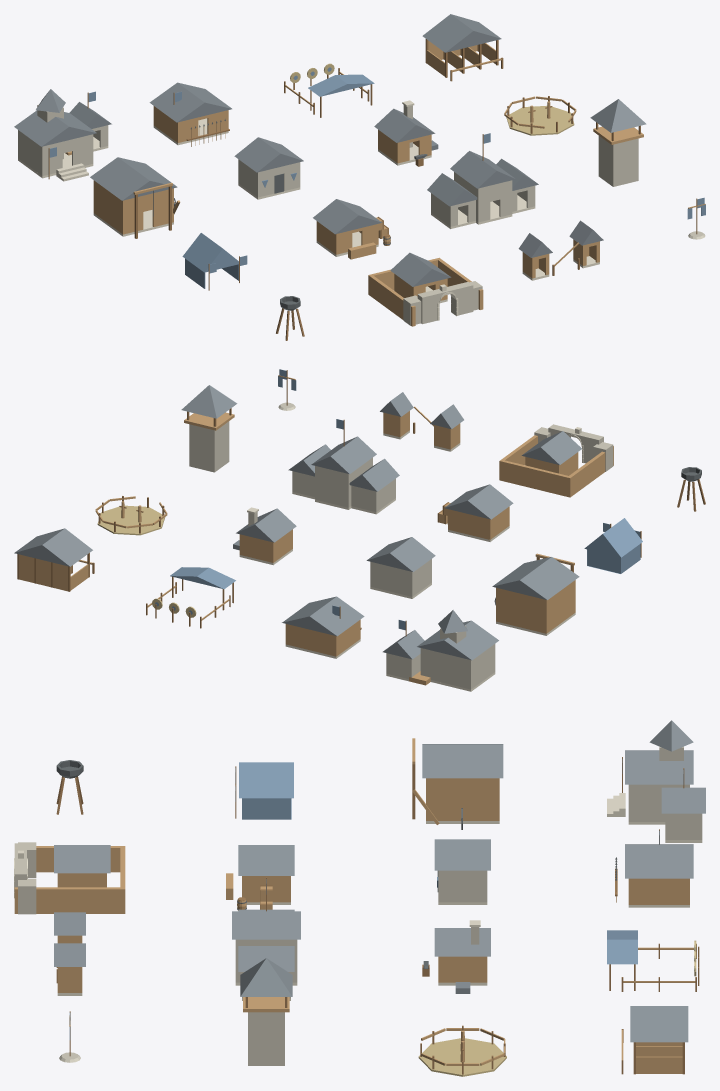
Rendered from kingdom-military-camp.glb.
The picture shows the model from 3 angles, top to bottom: view 1: azimuth 30°, elevation 25°; view 2: azimuth 150°, elevation 25°; view 3: azimuth 270°, elevation 25°; orthographic projection. The views are drawn at different scales.
Visible parts, largest first — view 1: 010-war-academy/3, 000-town-hall-upgraded/3, 004-siege-workshop/1, 010-war-academy/1, 000-town-hall-upgraded/1, 013-outpost/1, 004-siege-workshop/3, 013-outpost/4, 001-militia-barracks/3, 008-command-tent/0, 003-cavalry-stables/2, 011-arrow-tower/0 (+18 smaller); view 2: 013-outpost/1, 000-town-hall-upgraded/1, 010-war-academy/1, 004-siege-workshop/1, 010-war-academy/3, 000-town-hall-upgraded/3, 008-command-tent/0, 004-siege-workshop/3, 001-militia-barracks/3, 003-cavalry-stables/2, 011-arrow-tower/0, 001-militia-barracks/1 (+15 smaller); view 3: 013-outpost/1, 000-town-hall-upgraded/3, 004-siege-workshop/1, 010-war-academy/3, 008-command-tent/0, 004-siege-workshop/3, 000-town-hall-upgraded/1, 001-militia-barracks/3, 007-training-arena/0, 003-cavalry-stables/2, 011-arrow-tower/0, 005-armoury/3 (+17 smaller).
Part boxes in pixels (box(x1,y1,x2,y2)): 010-war-academy/3: box(427, 151, 538, 206); 000-town-hall-upgraded/3: box(14, 89, 111, 146); 004-siege-workshop/1: box(93, 180, 180, 234); 010-war-academy/1: box(431, 172, 535, 226); 000-town-hall-upgraded/1: box(18, 104, 108, 175); 013-outpost/1: box(368, 257, 483, 326); 004-siege-workshop/3: box(90, 157, 177, 200); 013-outpost/4: box(403, 281, 482, 325); 001-militia-barracks/3: box(149, 82, 231, 122); 008-command-tent/0: box(182, 233, 247, 288); 003-cavalry-stables/2: box(422, 14, 501, 52); 011-arrow-tower/0: box(598, 136, 638, 186); 013-outpost/1: box(499, 435, 613, 497); 000-town-hall-upgraded/1: box(386, 625, 495, 689); 010-war-academy/1: box(292, 457, 395, 512); 004-siege-workshop/1: box(495, 553, 575, 633); 010-war-academy/3: box(288, 436, 399, 491); 000-town-hall-upgraded/3: box(383, 610, 498, 660); 008-command-tent/0: box(584, 518, 642, 573); 004-siege-workshop/3: box(492, 557, 579, 599); 001-militia-barracks/3: box(282, 596, 364, 636); 003-cavalry-stables/2: box(14, 528, 92, 566); 011-arrow-tower/0: box(189, 421, 229, 472); 001-militia-barracks/1: box(285, 619, 360, 656); 013-outpost/1: box(14, 846, 125, 913); 000-town-hall-upgraded/3: box(625, 720, 705, 813); 004-siege-workshop/1: box(412, 738, 499, 824); 010-war-academy/3: box(232, 909, 300, 971); 008-command-tent/0: box(235, 762, 293, 819); 004-siege-workshop/3: box(422, 744, 503, 778); 000-town-hall-upgraded/1: box(628, 746, 702, 839); 001-militia-barracks/3: box(625, 844, 693, 878); 007-training-arena/0: box(418, 1038, 506, 1076); 003-cavalry-stables/2: box(630, 1006, 688, 1042); 011-arrow-tower/0: box(248, 1012, 284, 1065); 005-armoury/3: box(434, 839, 490, 870).
Size of the model in its own units: 54.9 by 9 by 56.37.
